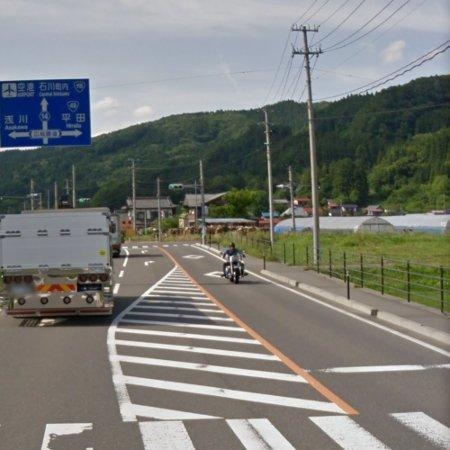crosswalks: (40, 411, 450, 450)
